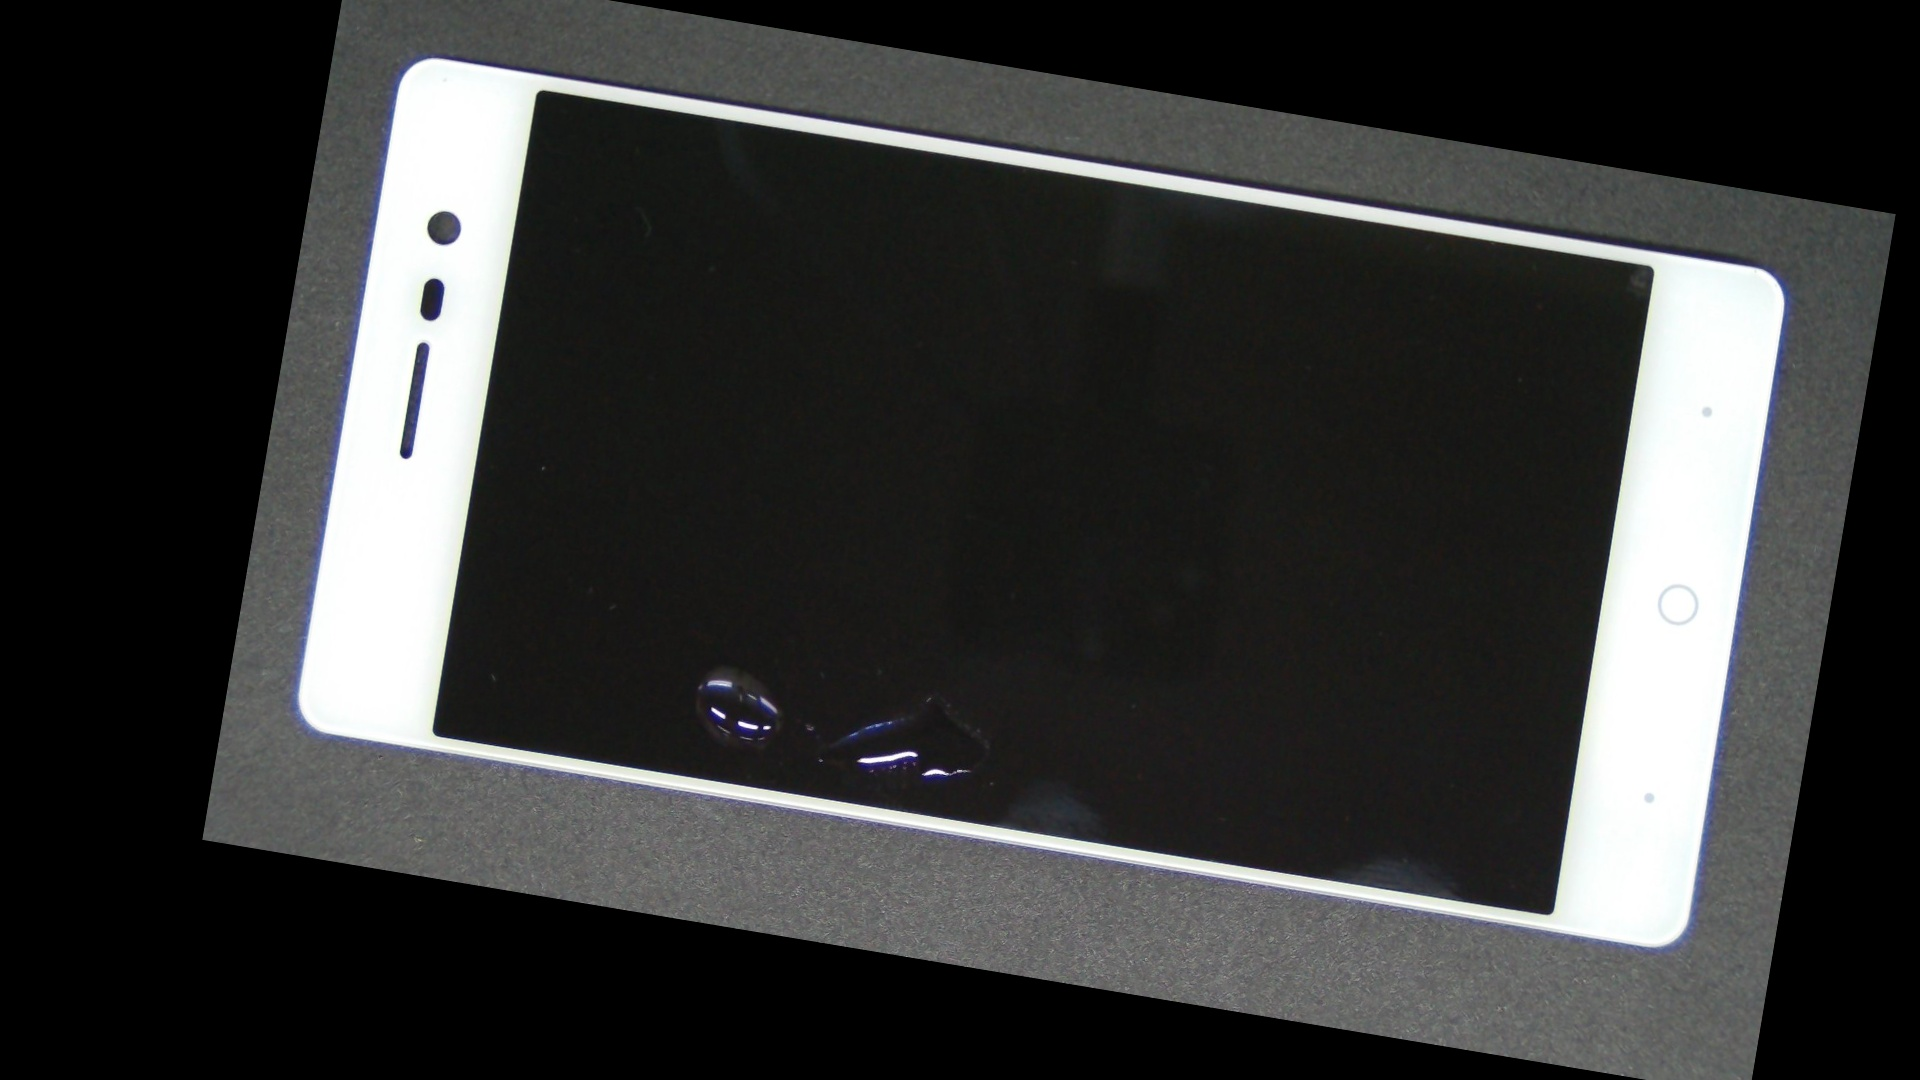oil: (547, 324, 1333, 1011), (488, 340, 1149, 982), (442, 311, 1015, 959)
